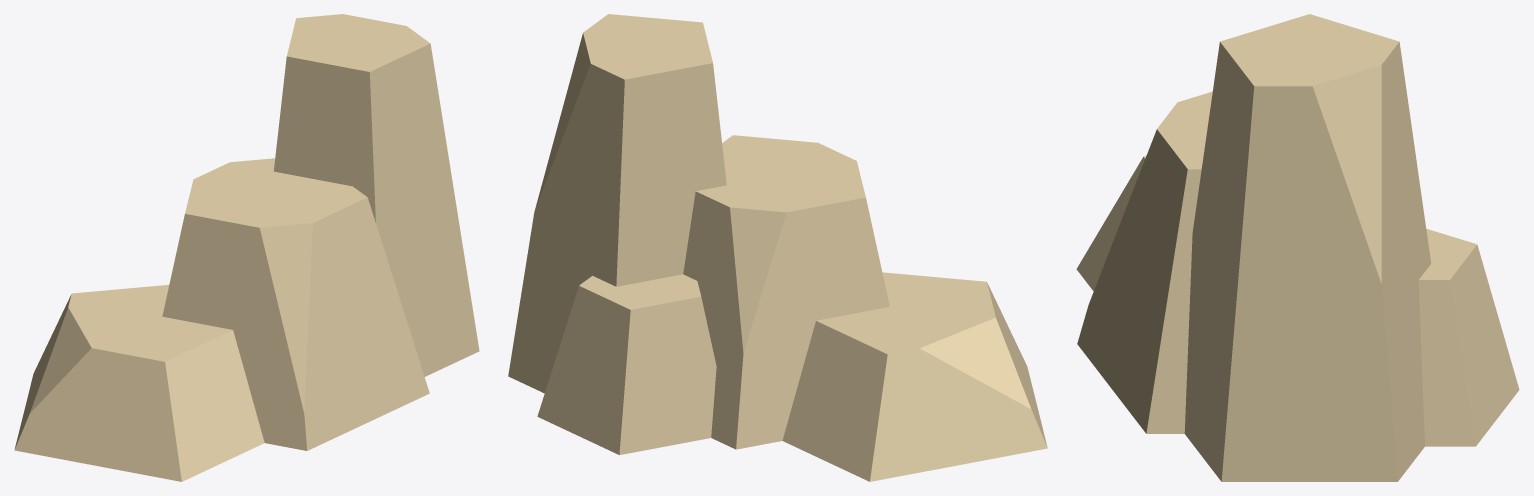
File: rockC.fbx
3 renders of one model, left to right at view 1: azimuth 30°, elevation 25°; view 2: azimuth 150°, elevation 25°; view 3: azimuth 270°, elevation 25°, orthographic. The views are drawn at different scales.
Parts seen in each view (by area): view 1: rockC; view 2: rockC; view 3: rockC.
Boxes of the visible parts, x1,y1,x2,y2 form: rockC: (14,14,479,481); rockC: (508,14,1047,481); rockC: (1076,14,1519,481).
Size of the model in its own units: 31.35 by 20.4 by 21.87.
